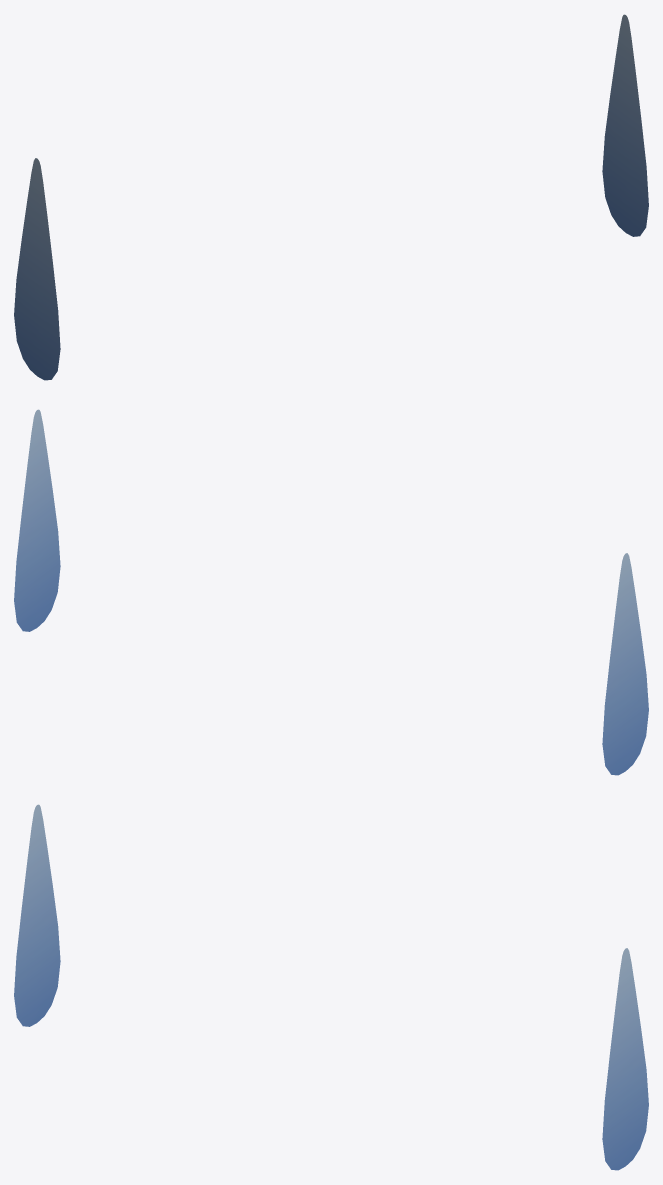
File: GIC Player Sweat.glb
3 renders of one model, top to bottom at view 1: azimuth 30°, elevation 25°; view 2: azimuth 150°, elevation 25°; view 3: azimuth 330°, elevation 25°, orthographic.
Visible parts, largest first — view 1: Sweat; view 2: Sweat; view 3: Sweat.
Part boxes in pixels (left/top/right/bottom): Sweat: left=14, top=14, right=648, bottom=380; Sweat: left=14, top=409, right=648, bottom=775; Sweat: left=14, top=804, right=648, bottom=1170.
Bounding box in the file's own units: 2.15 × 0.7627 × 0.2954.
1 material, 1 textured.
